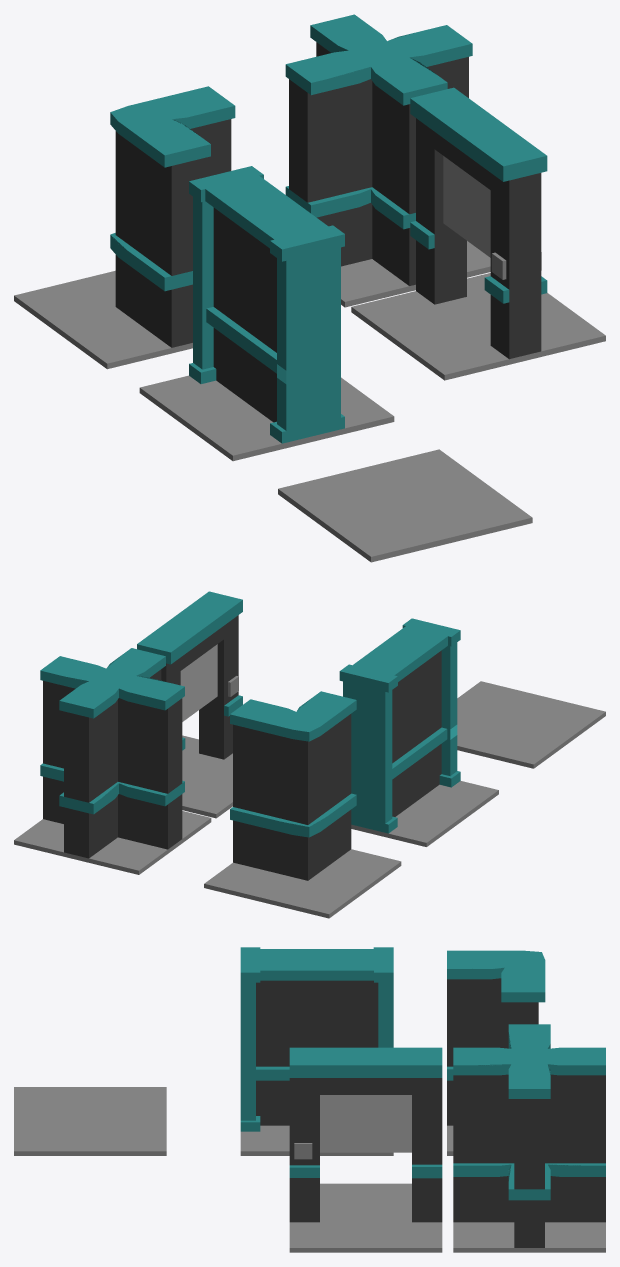
File: Walls.fbx
3 renders of one model, top to bottom at view 1: azimuth 30°, elevation 25°; view 2: azimuth 150°, elevation 25°; view 3: azimuth 270°, elevation 25°, orthographic. The views are drawn at different scales.
Parts seen in each view (by area): view 1: Wall, Door5, FourWall, Corner, Floor; view 2: FourWall, Corner, Wall, Door5, Floor; view 3: FourWall, Door5, Wall, Floor, Corner.
Boxes of the visible parts, x1,y1,x2,y2 form: Wall: [139, 166, 394, 461]; Door5: [351, 87, 605, 380]; FourWall: [285, 14, 490, 307]; Corner: [14, 86, 235, 369]; Floor: [278, 449, 532, 562]; FourWall: [14, 648, 211, 874]; Corner: [204, 691, 401, 918]; Wall: [339, 618, 498, 846]; Door5: [137, 591, 242, 818]; Floor: [457, 681, 605, 768]; FourWall: [453, 1024, 605, 1252]; Door5: [289, 1047, 442, 1252]; Wall: [240, 947, 393, 1155]; Floor: [14, 1087, 166, 1155]; Corner: [447, 950, 545, 1155].
Size of the model in its own units: 499 by 237 by 775.
